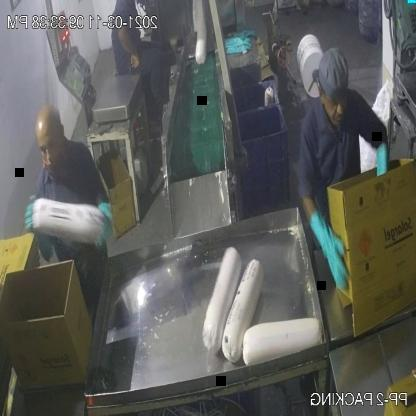glove: (306, 212, 361, 294)
no_glove: (117, 27, 144, 73)
